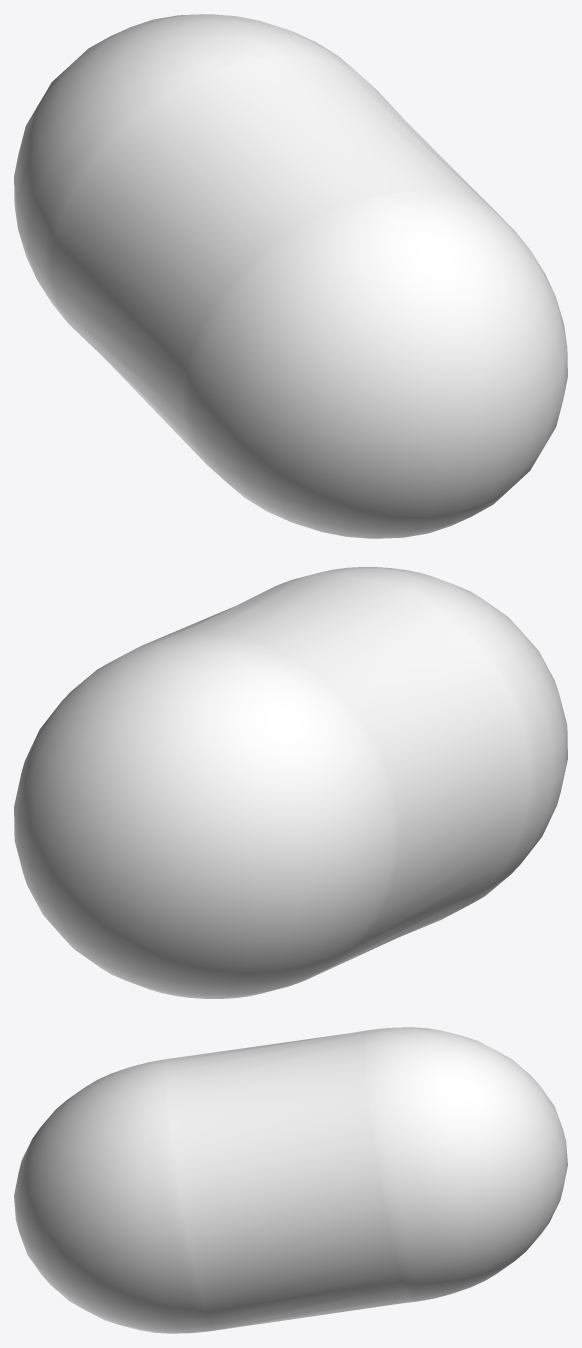
The model's file is dedosiete_Muffin.obj.
3 views of the same model, one above another, from view 1: azimuth 30°, elevation 25°; view 2: azimuth 150°, elevation 25°; view 3: azimuth 270°, elevation 25° (orthographic). The views are drawn at different scales.
Visible parts, largest first — view 1: Object012; view 2: Object012; view 3: Object012.
Boxes of the visible parts, x1,y1,x2,y2 form: Object012: (14,14,567,538); Object012: (14,567,567,998); Object012: (14,1027,567,1333).
Size of the model in its own units: 4.52 by 4.57 by 8.31.
